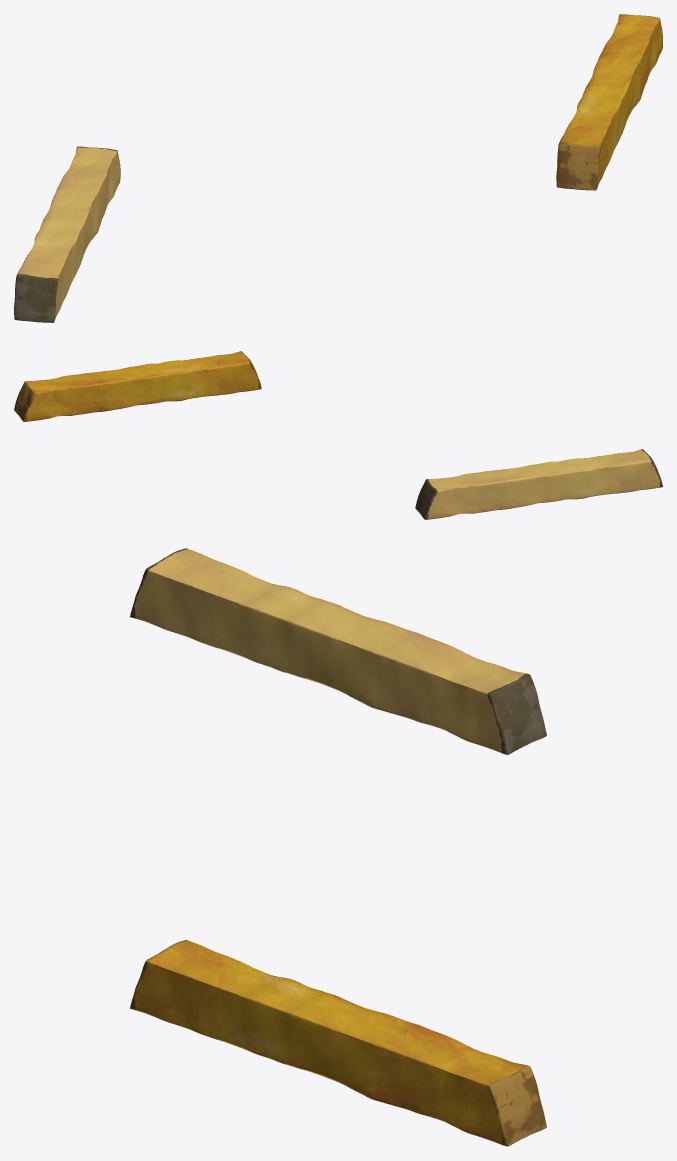
File: Fries.fbx
3 views of the same model, one above another, from view 1: azimuth 30°, elevation 25°; view 2: azimuth 150°, elevation 25°; view 3: azimuth 270°, elevation 25° (orthographic). The views are drawn at different scales.
Parts seen in each view (by area): view 1: CookedFries.001, RawFries.001; view 2: RawFries.001, CookedFries.001; view 3: CookedFries.001, RawFries.001.
Part boxes in pixels (x1=…): CookedFries.001: x1=556, y1=14, x2=662, y2=190; RawFries.001: x1=14, y1=146, x2=120, y2=322; RawFries.001: x1=415, y1=449, x2=662, y2=519; CookedFries.001: x1=14, y1=351, x2=261, y2=421; CookedFries.001: x1=130, y1=940, x2=546, y2=1146; RawFries.001: x1=130, y1=548, x2=546, y2=754.
Bounding box in the file's own units: 259 × 12.94 × 82.89.
4 materials, 4 textured.
